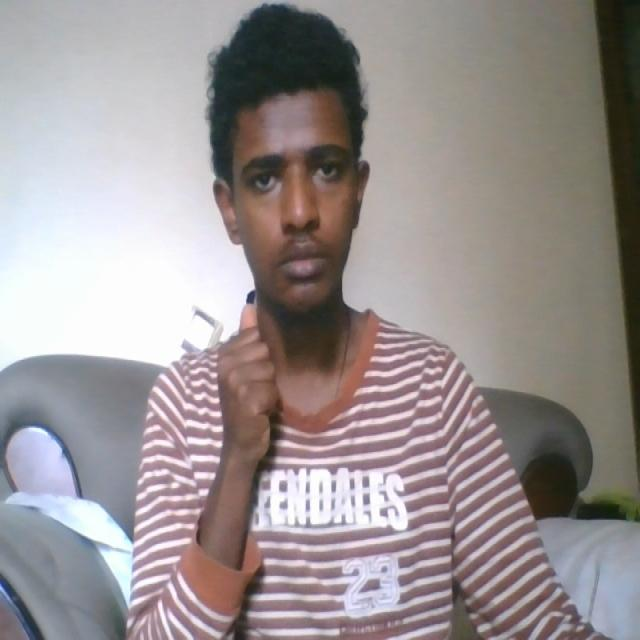akst: (212, 299, 304, 474)
